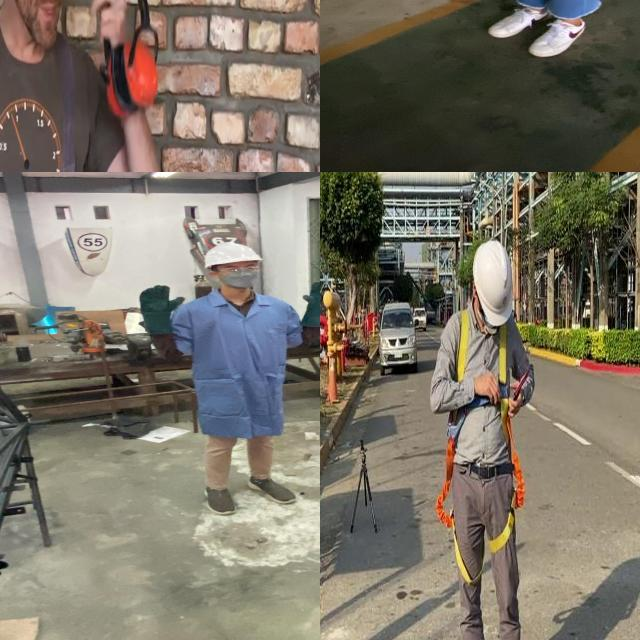Ear-protection: (0, 0, 83, 62)
Harness: (447, 310, 510, 445), (435, 436, 483, 586), (489, 416, 526, 554)
face_mask: (218, 262, 266, 290)
glasses: (211, 264, 263, 276)
hand_glove: (134, 283, 188, 320), (300, 280, 320, 314)
head_helmet: (198, 240, 268, 268)
person: (132, 240, 320, 530)
shoes: (516, 12, 594, 61), (482, 1, 555, 40), (242, 472, 302, 510), (197, 474, 242, 519)
